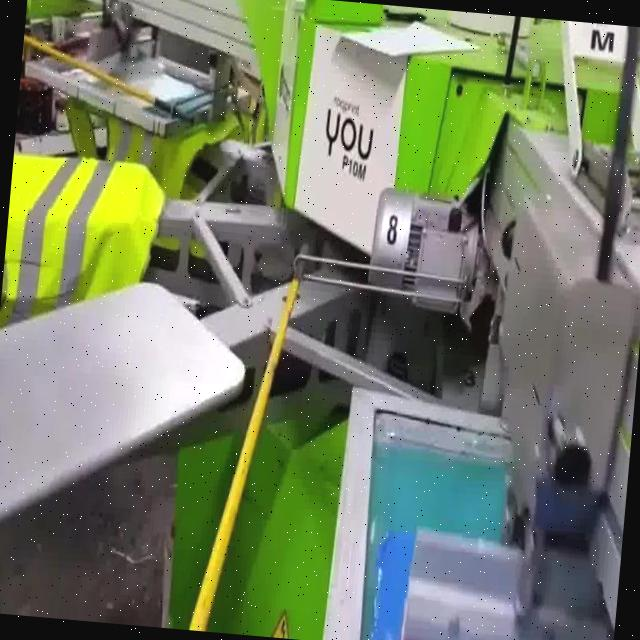vest: (1, 153, 172, 329)
